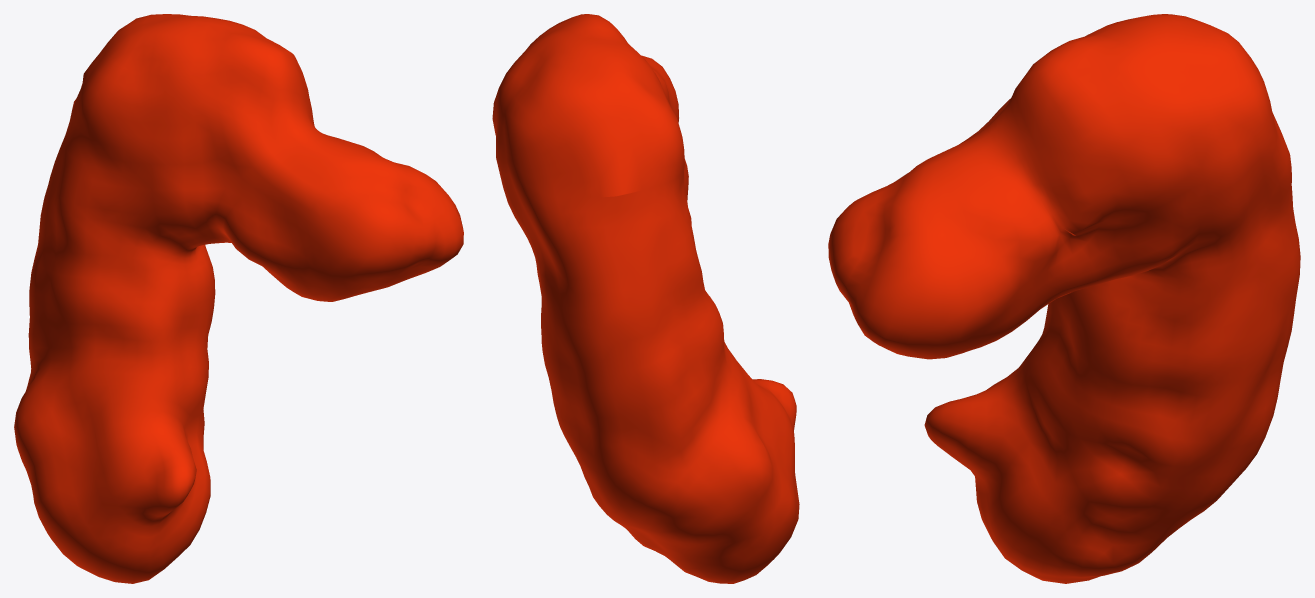
Rendered from Stomach.obj.
3 views of the same model, side by side, from view 1: azimuth 30°, elevation 25°; view 2: azimuth 150°, elevation 25°; view 3: azimuth 270°, elevation 25° (orthographic). The views are drawn at different scales.
Parts seen in each view (by area): view 1: Stomach; view 2: Stomach; view 3: Stomach.
Boxes of the visible parts, x1=… form: Stomach: x1=14, y1=14, x2=463, y2=583; Stomach: x1=492, y1=14, x2=799, y2=583; Stomach: x1=828, y1=14, x2=1300, y2=583.
Size of the model in its own units: 3.83 by 5.5 by 3.86.
